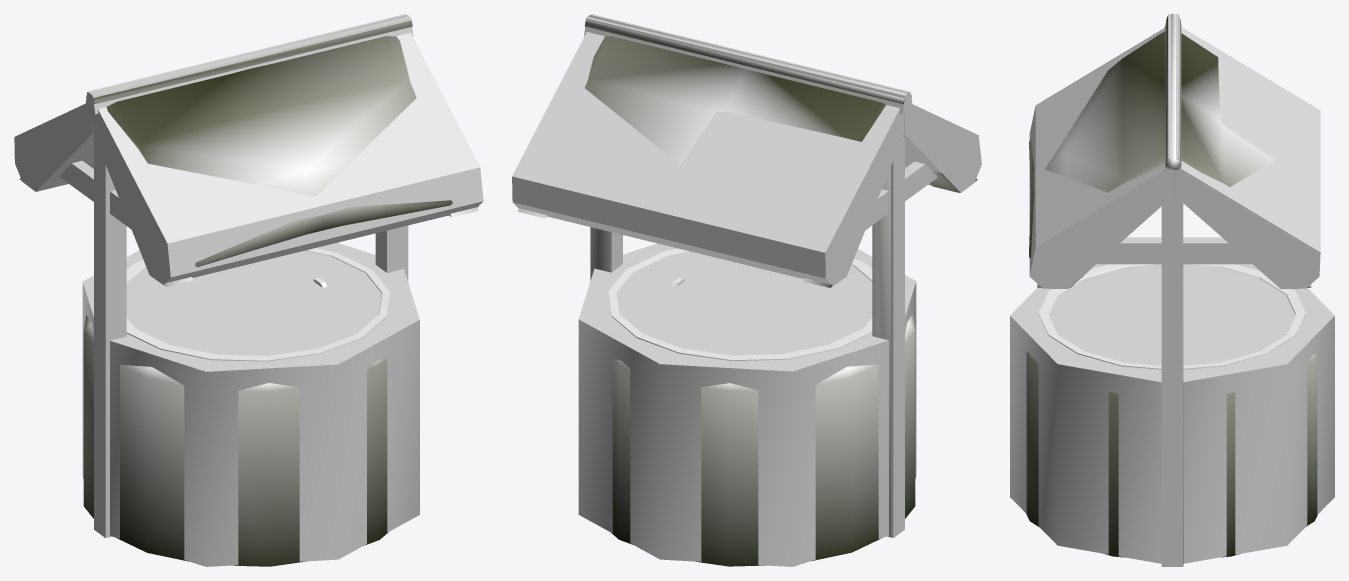
Rendered from ex_nord_well_01.dae.
The picture shows the model from 3 angles, left to right: view 1: azimuth 30°, elevation 25°; view 2: azimuth 150°, elevation 25°; view 3: azimuth 270°, elevation 25°; orthographic projection. The views are drawn at different scales.
Parts seen in each view (by area): view 1: nifid_43-matrix, nifid_22-matrix, nifid_33-matrix, nifid_16-matrix, nifid_39-matrix, nifid_35-matrix, nifid_31-matrix, nifid_10-matrix, nifid_6-matrix, nifid_41-matrix, nifid_45-matrix; view 2: nifid_43-matrix, nifid_35-matrix, nifid_16-matrix, nifid_22-matrix, nifid_39-matrix, nifid_33-matrix, nifid_31-matrix, nifid_10-matrix, nifid_26-matrix, nifid_6-matrix, nifid_45-matrix, nifid_20-matrix; view 3: nifid_43-matrix, nifid_35-matrix, nifid_22-matrix, nifid_33-matrix, nifid_41-matrix, nifid_16-matrix, nifid_6-matrix, nifid_37-matrix, nifid_31-matrix, nifid_10-matrix, nifid_20-matrix.
Part boxes in pixels (x1,y1,x2,y2): nifid_43-matrix: (82,242,419,566); nifid_22-matrix: (106,36,452,266); nifid_33-matrix: (93,33,483,284); nifid_16-matrix: (83,315,388,566); nifid_39-matrix: (94,136,126,537); nifid_35-matrix: (14,103,94,191); nifid_31-matrix: (85,14,413,114); nifid_10-matrix: (89,15,412,104); nifid_6-matrix: (126,248,390,361); nifid_41-matrix: (375,225,408,281); nifid_45-matrix: (59,160,131,229); nifid_43-matrix: (578,243,916,566); nifid_35-matrix: (512,32,903,285); nifid_16-matrix: (611,314,915,566); nifid_22-matrix: (585,36,885,164); nifid_39-matrix: (872,137,904,537); nifid_33-matrix: (903,104,981,192); nifid_31-matrix: (584,14,912,114); nifid_10-matrix: (584,15,908,104); nifid_26-matrix: (803,167,977,536); nifid_6-matrix: (608,248,872,361); nifid_45-matrix: (865,161,937,230); nifid_20-matrix: (518,208,611,278); nifid_43-matrix: (1010,264,1334,563); nifid_35-matrix: (1174,27,1320,288); nifid_22-matrix: (1029,31,1275,257); nifid_33-matrix: (1029,27,1173,288); nifid_41-matrix: (1161,194,1182,566); nifid_16-matrix: (1026,352,1317,557); nifid_6-matrix: (1038,264,1305,369); nifid_37-matrix: (1096,237,1251,264); nifid_31-matrix: (1164,14,1182,174); nifid_10-matrix: (1166,14,1180,164); nifid_20-matrix: (1037,174,1311,565).
Bounding box in the file's own units: 284 × 270 × 377.
Materials: 2 (1 with a texture image).
